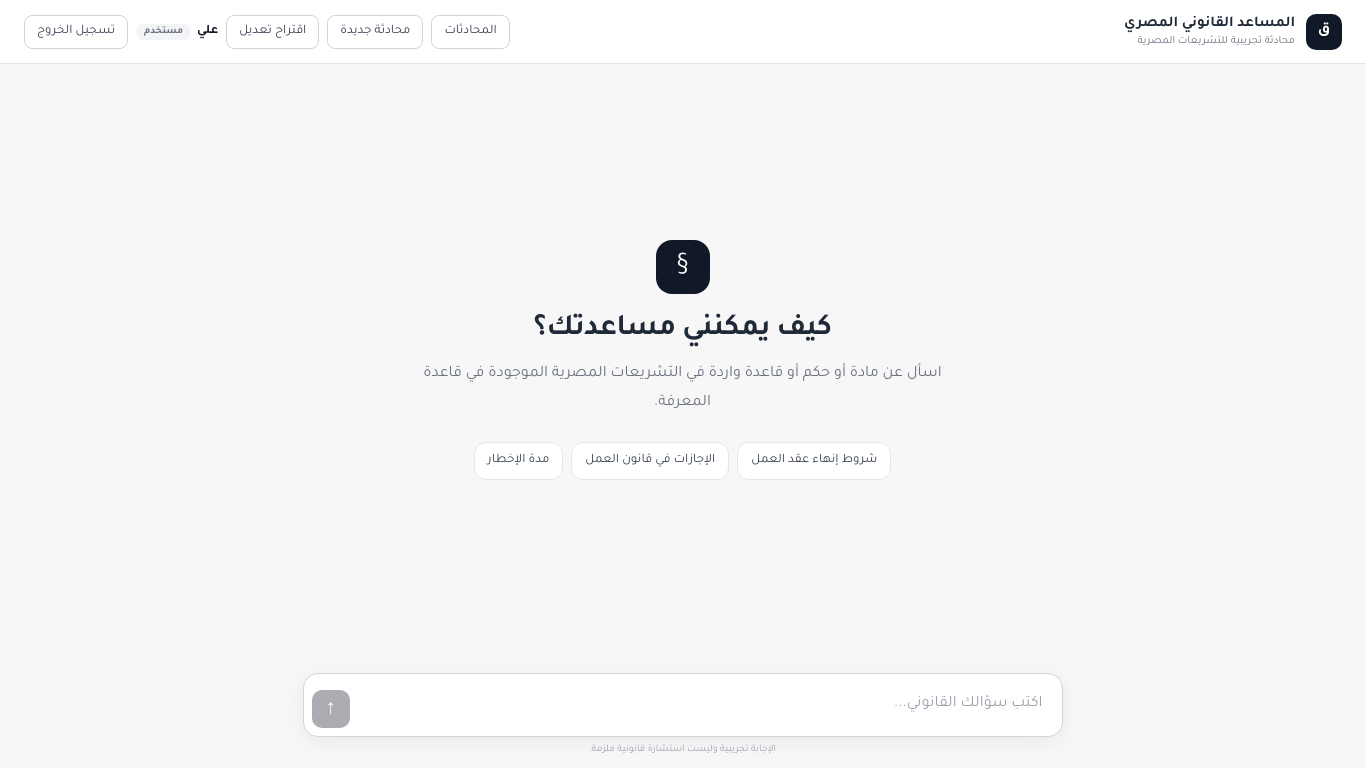
Test: Chat conversation history › refreshes the sidebar list after the first exchange of a new chat
Type "سؤال أول" into the text box named "السؤال القانوني" at coordinates (706, 705), box 358,682 -> 1054,728
Then press Enter
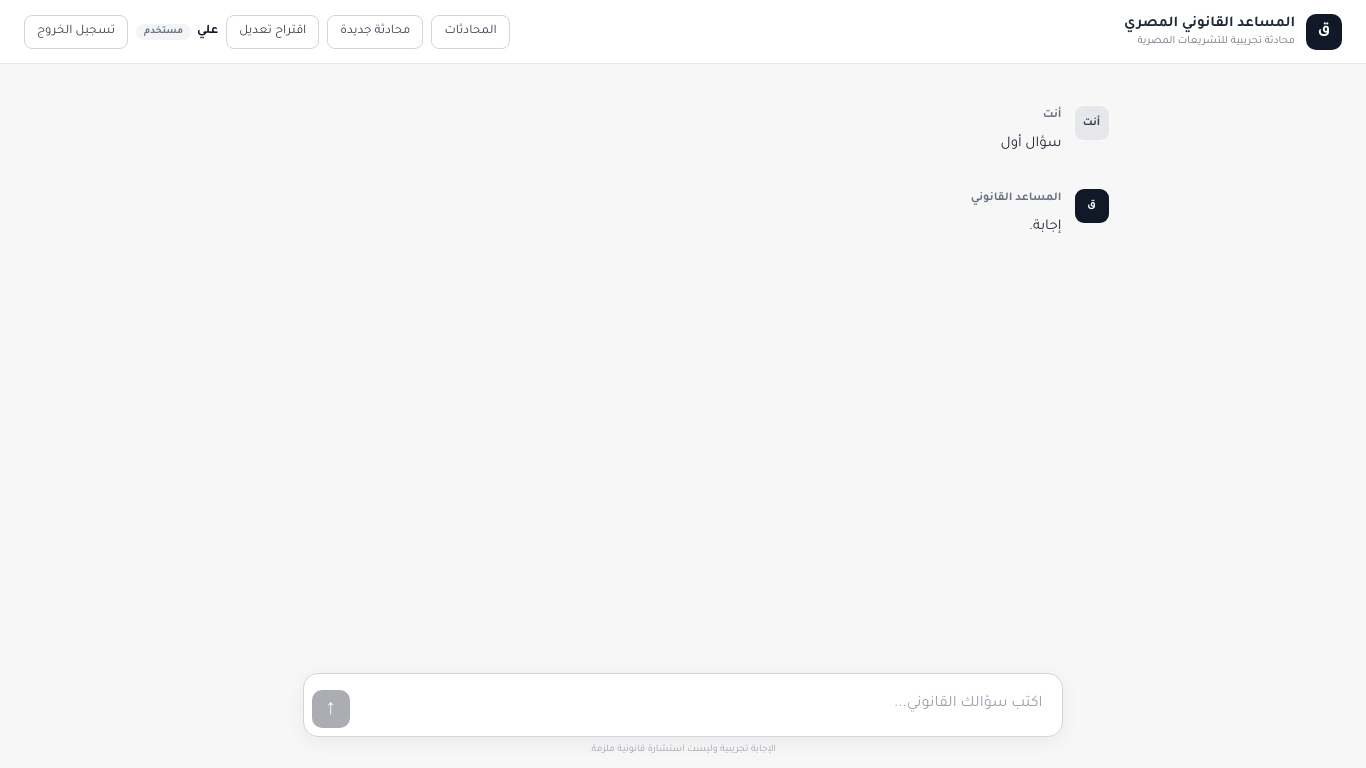
Check: the text "إجابة." is shown, box 1029,218 -> 1062,234
